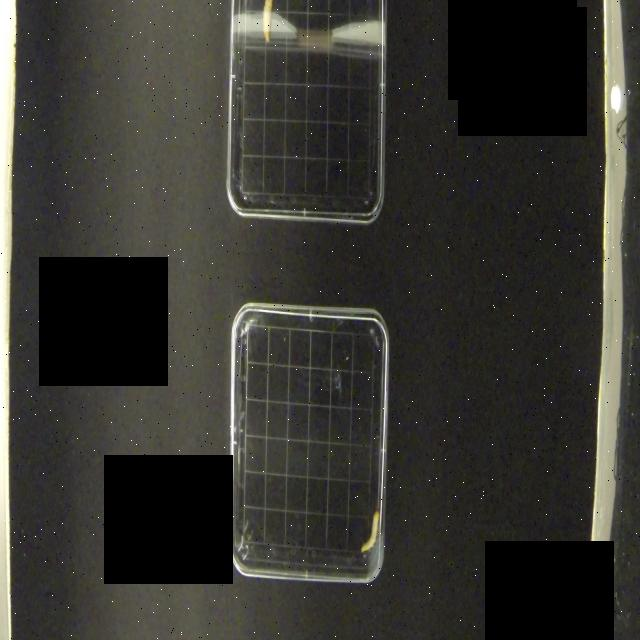larva: (361, 506, 380, 556), (260, 0, 280, 45)
